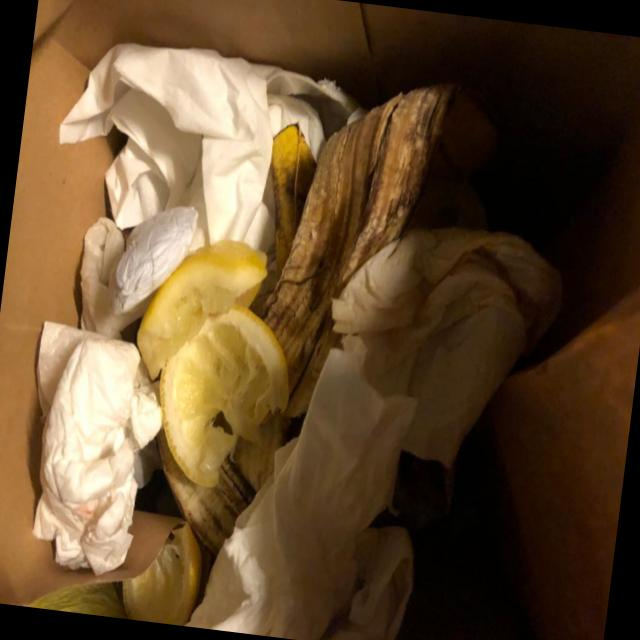organic waste: (34, 28, 365, 286), (187, 332, 414, 640), (10, 320, 173, 580), (66, 194, 205, 344)
